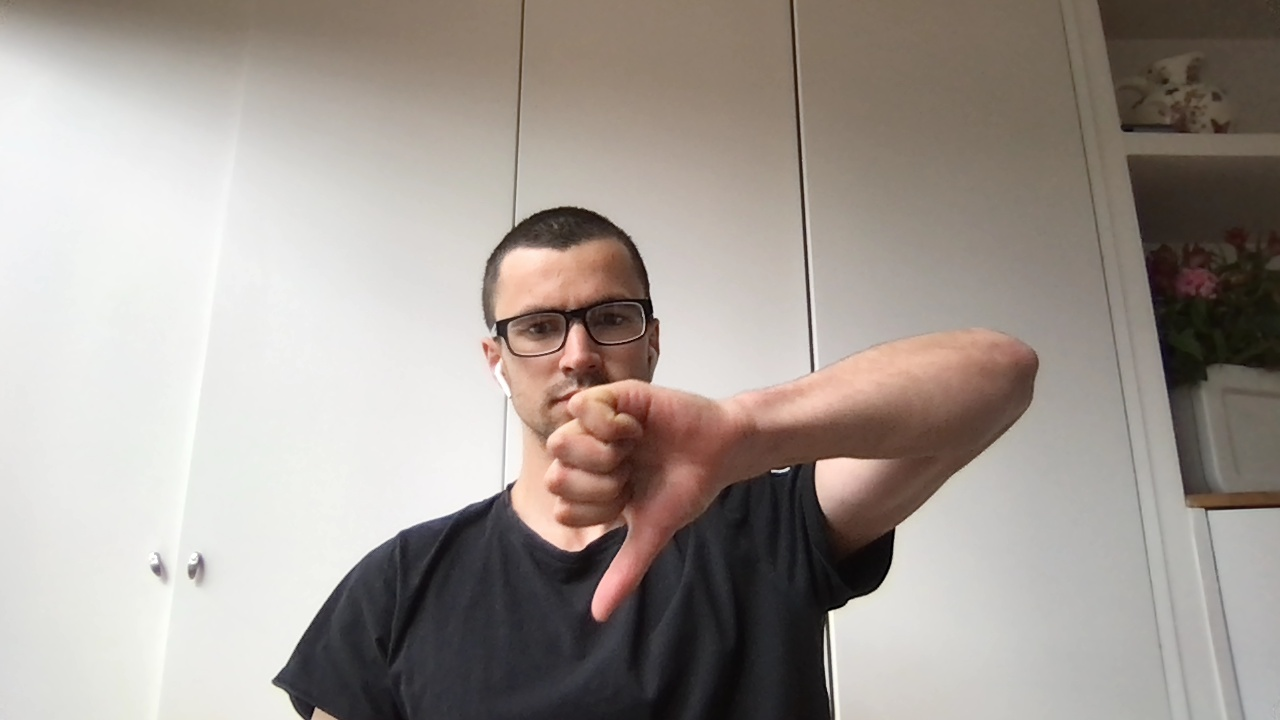thumbDown: (545, 379, 745, 621)
